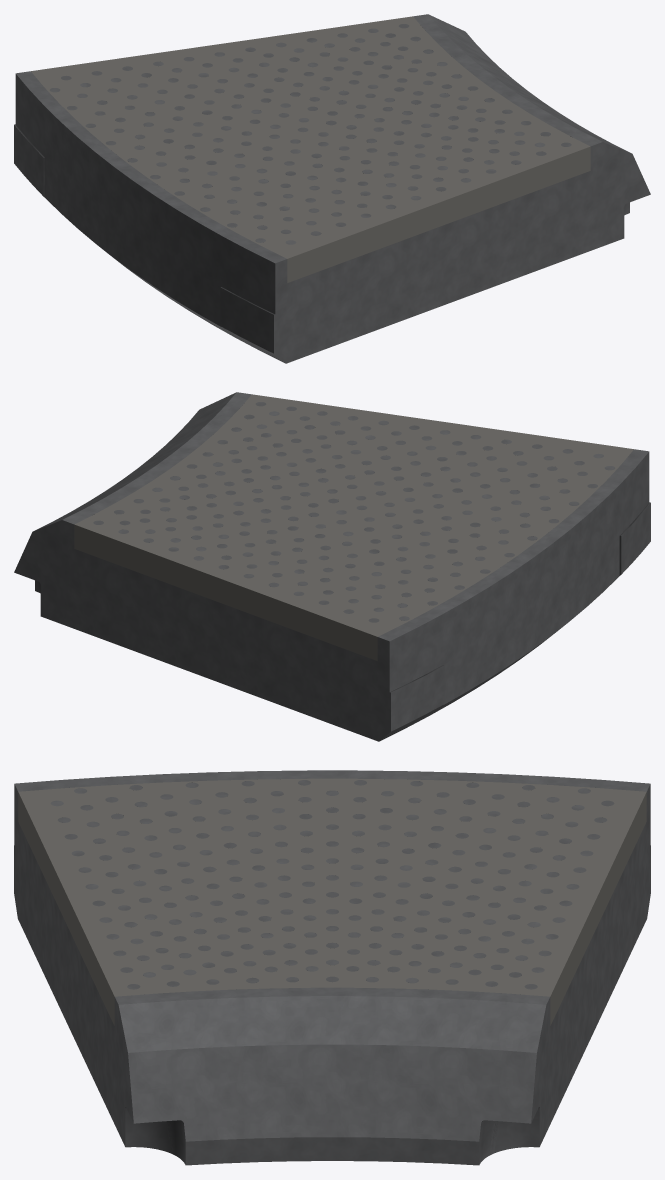
File: cement-sintercast-loesche-lm-table.glb
3 views of the same model, one above another, from view 1: azimuth 30°, elevation 25°; view 2: azimuth 150°, elevation 25°; view 3: azimuth 270°, elevation 25° (orthographic). The views are drawn at different scales.
Parts seen in each view (by area): view 1: ceramic, hicr; view 2: ceramic, hicr; view 3: hicr, ceramic.
Boxes of the visible parts, <box> form: ceramic: <box>31,16,590,282</box>; hicr: <box>14,14,650,363</box>; ceramic: <box>74,394,633,660</box>; hicr: <box>14,392,650,741</box>; hicr: <box>14,770,650,1165</box>; ceramic: <box>18,778,646,1025</box>.
Size of the model in its own units: 0.963 by 0.215 by 0.9705.
2 materials, 1 textured.
